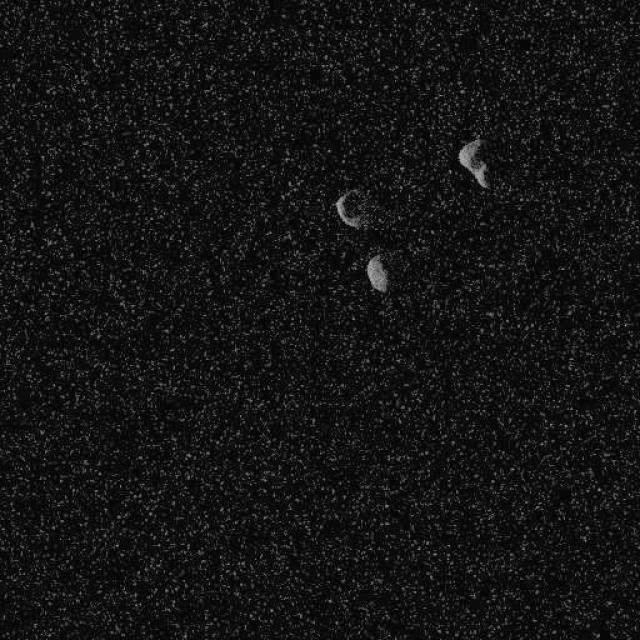D2: (456, 136, 492, 189), (334, 186, 374, 230), (365, 254, 389, 292)
